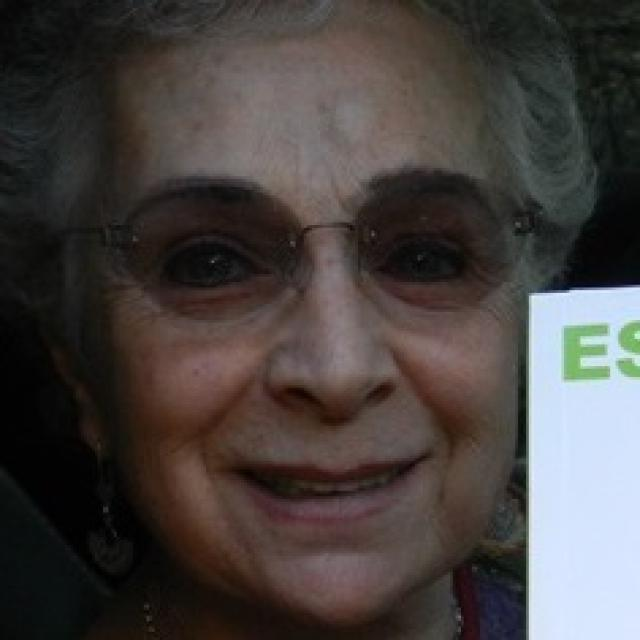Normal: (92, 17, 525, 625)
